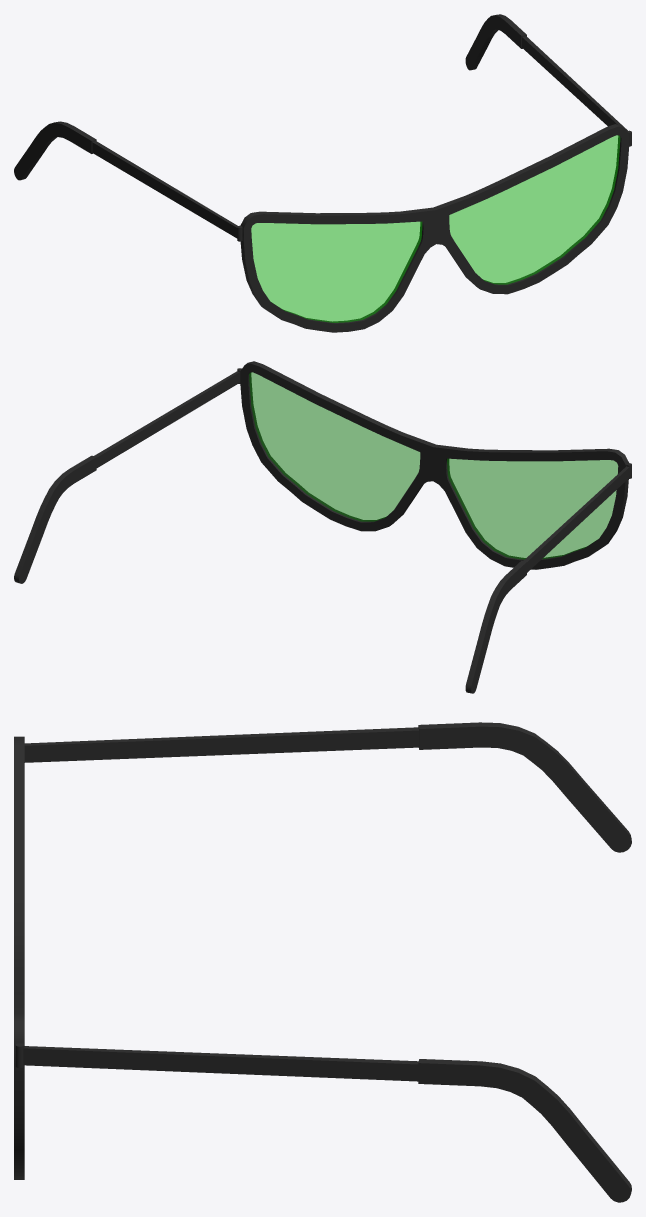
The picture shows the model from 3 angles, top to bottom: view 1: azimuth 30°, elevation 25°; view 2: azimuth 150°, elevation 25°; view 3: azimuth 270°, elevation 25°; orthographic projection. The views are drawn at different scales.
Parts seen in each view (by area): view 1: Lens, Material.016; view 2: Lens, Material.016; view 3: Material.016.
Boxes of the visible parts, x1,y1,x2,y2 form: Lens: [251, 135, 620, 322]; Material.016: [14, 14, 631, 332]; Lens: [249, 372, 618, 559]; Material.016: [14, 361, 631, 693]; Material.016: [14, 722, 631, 1202].
Bounding box in the file's own units: 2.2 × 0.6471 × 1.62.
